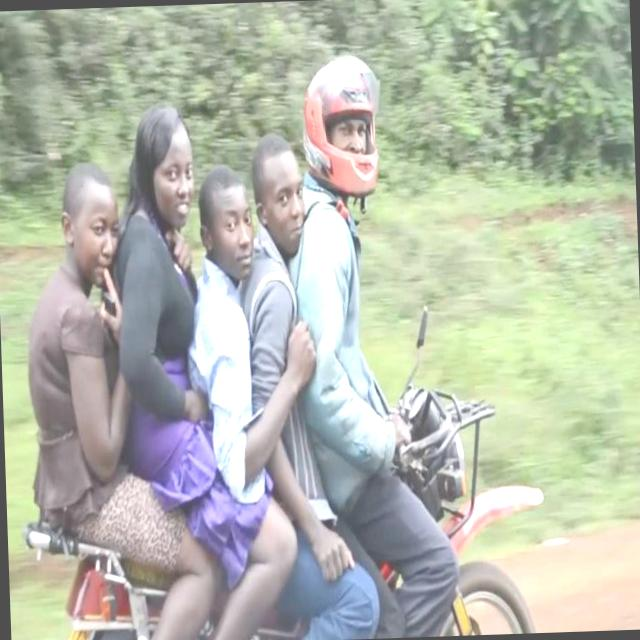motorcycle: (35, 376, 548, 640)
person: (290, 47, 460, 638), (18, 154, 158, 636), (114, 96, 221, 622), (230, 124, 329, 640), (178, 156, 280, 640)
rider_region: (30, 43, 541, 640)
